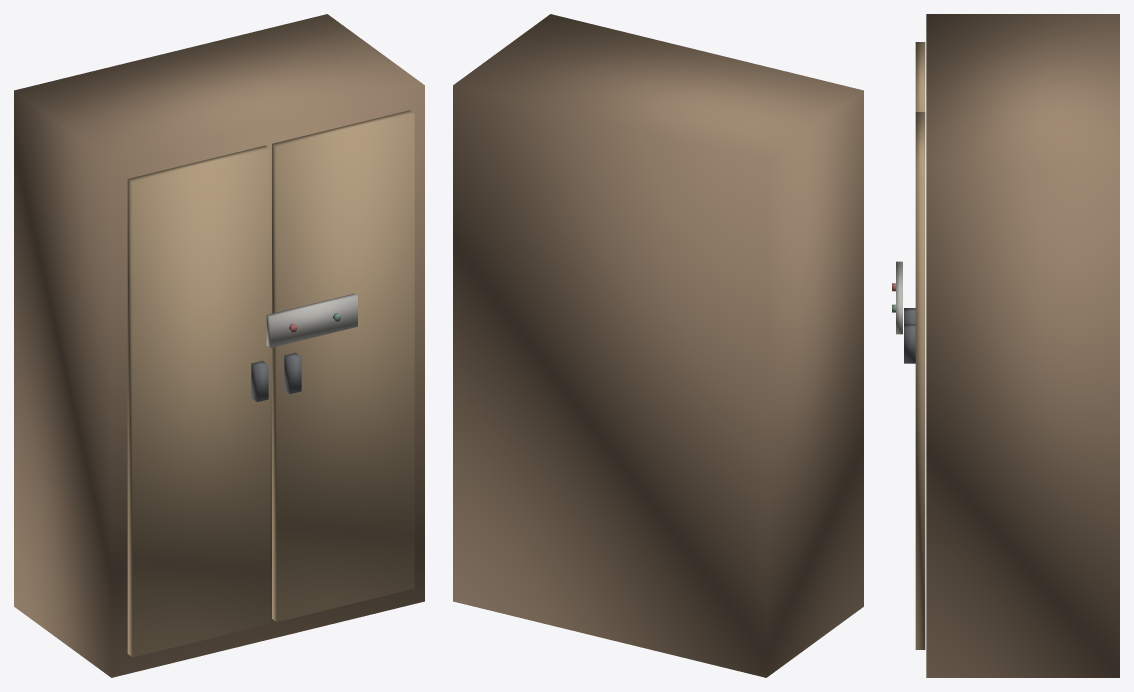
File: cupboard__compact.glb
3 views of the same model, side by side, from view 1: azimuth 30°, elevation 25°; view 2: azimuth 150°, elevation 25°; view 3: azimuth 270°, elevation 25° (orthographic).
Visible parts, largest first — view 1: world; view 2: world; view 3: world.
Boxes of the visible parts, x1,y1,x2,y2 form: world: [14, 14, 424, 677]; world: [453, 14, 863, 677]; world: [892, 14, 1119, 677].
Bounding box in the file's own units: 0.798 × 1.26 × 0.5061.
